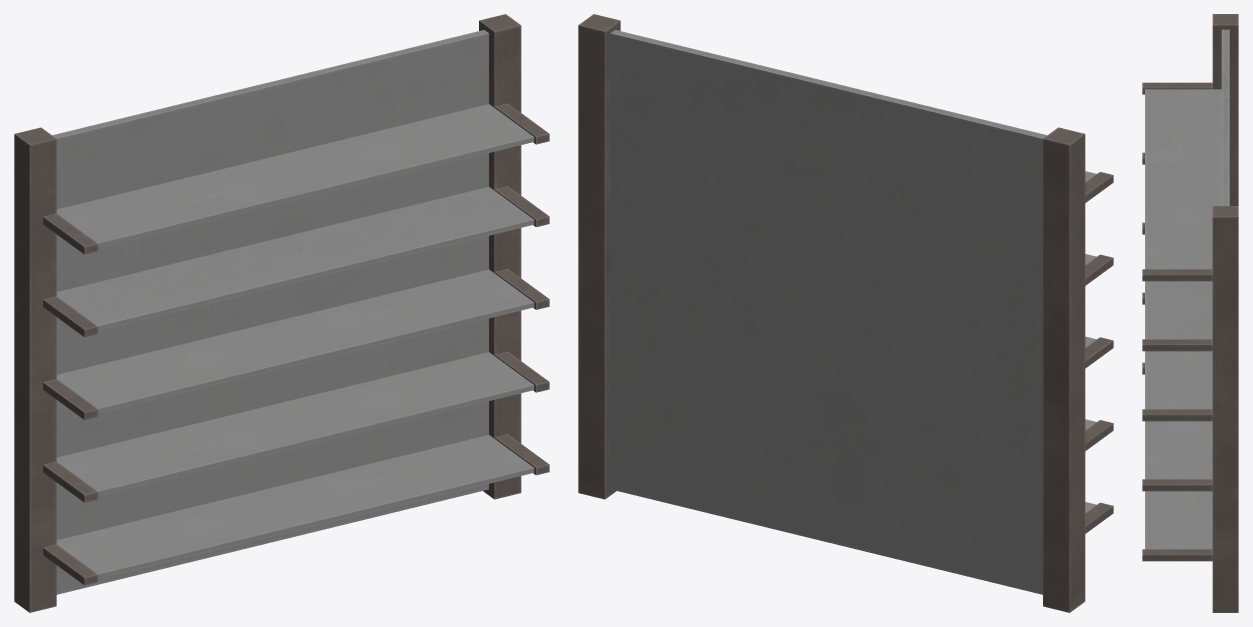
Rendered from SM_Props_Interior_01_2.glb.
The picture shows the model from 3 angles, left to right: view 1: azimuth 30°, elevation 25°; view 2: azimuth 150°, elevation 25°; view 3: azimuth 270°, elevation 25°; orthographic projection. The views are drawn at different scales.
Parts seen in each view (by area): view 1: SM_Props_Interior_01; view 2: SM_Props_Interior_01; view 3: SM_Props_Interior_01.
Boxes of the visible parts, x1,y1,x2,y2 form: SM_Props_Interior_01: (14,14,549,612); SM_Props_Interior_01: (578,14,1113,612); SM_Props_Interior_01: (1142,14,1238,612).
Bounding box in the file's own units: 2.2 × 2 × 0.4424.
1 material, 1 textured.
